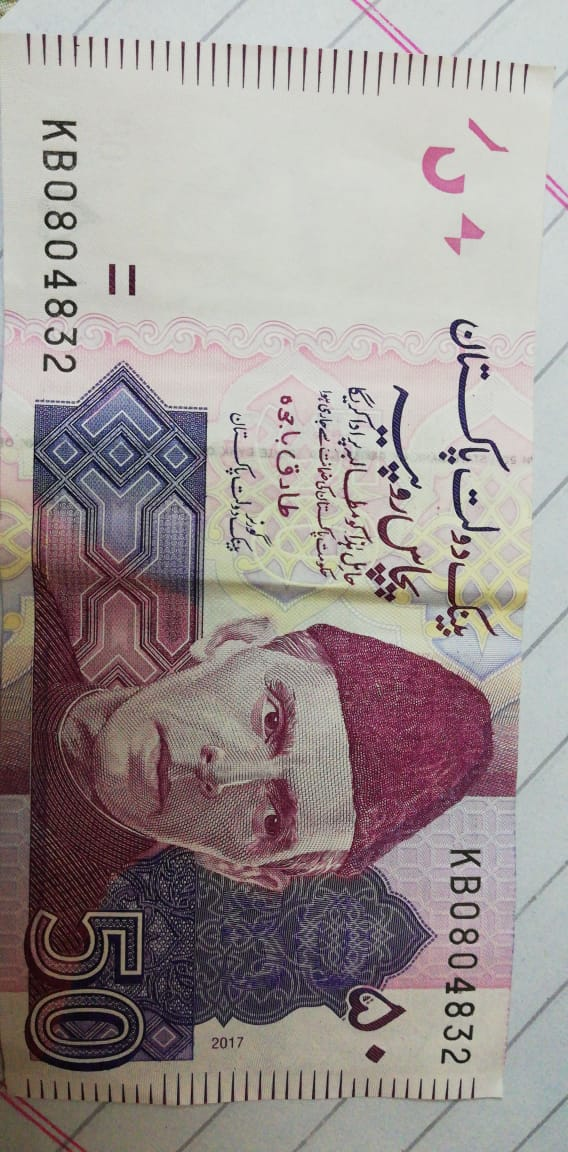50 rupee: (2, 27, 512, 1115)
